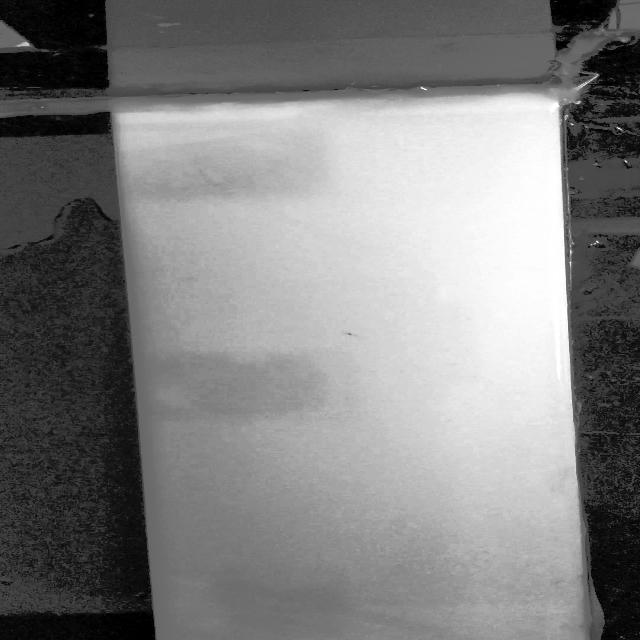shrimp: (338, 330, 364, 341)
